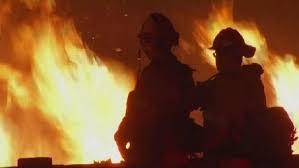fire: (0, 9, 136, 163), (194, 2, 299, 72)
